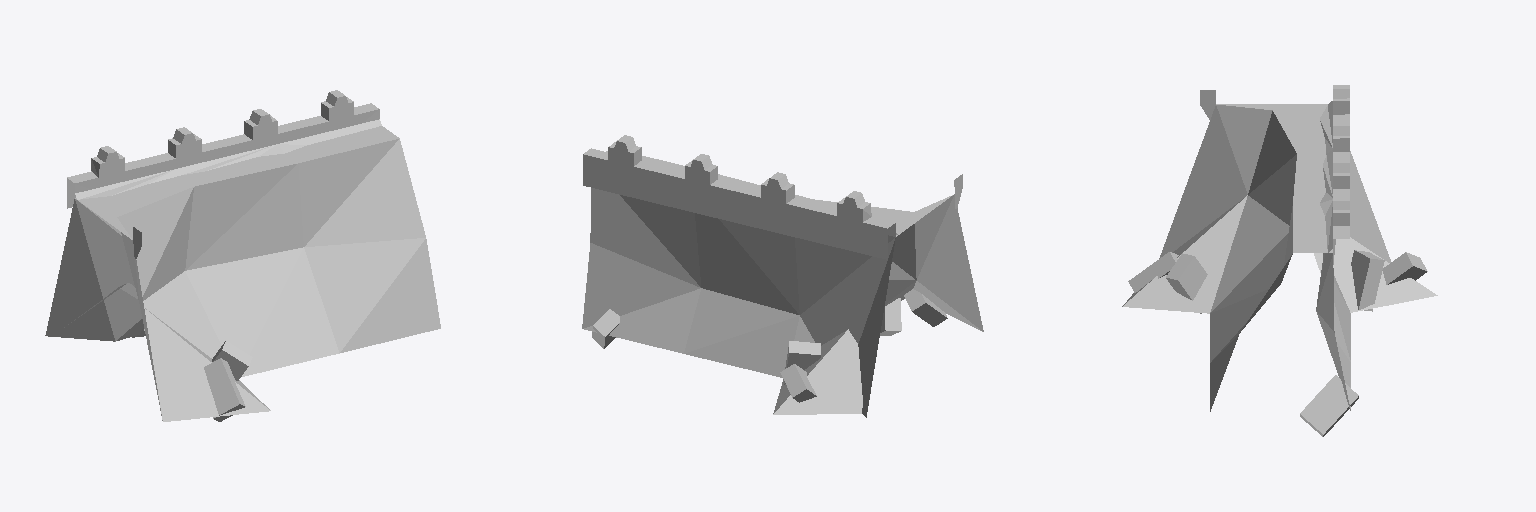
The model's file is templeStraightNarrowLongDownBHorz_prefab.obj.
3 renders of one model, left to right at view 1: azimuth 30°, elevation 25°; view 2: azimuth 150°, elevation 25°; view 3: azimuth 270°, elevation 25°, orthographic.
Visible parts, largest first — view 1: Object215-Pivot; view 2: Object215-Pivot; view 3: Object215-Pivot.
Part boxes in pixels (bbox=[...]): Object215-Pivot: bbox=[45, 90, 440, 421]; Object215-Pivot: bbox=[582, 135, 983, 417]; Object215-Pivot: bbox=[1122, 85, 1437, 436].
Bounding box in the file's own units: 60.74 × 42.12 × 53.73.